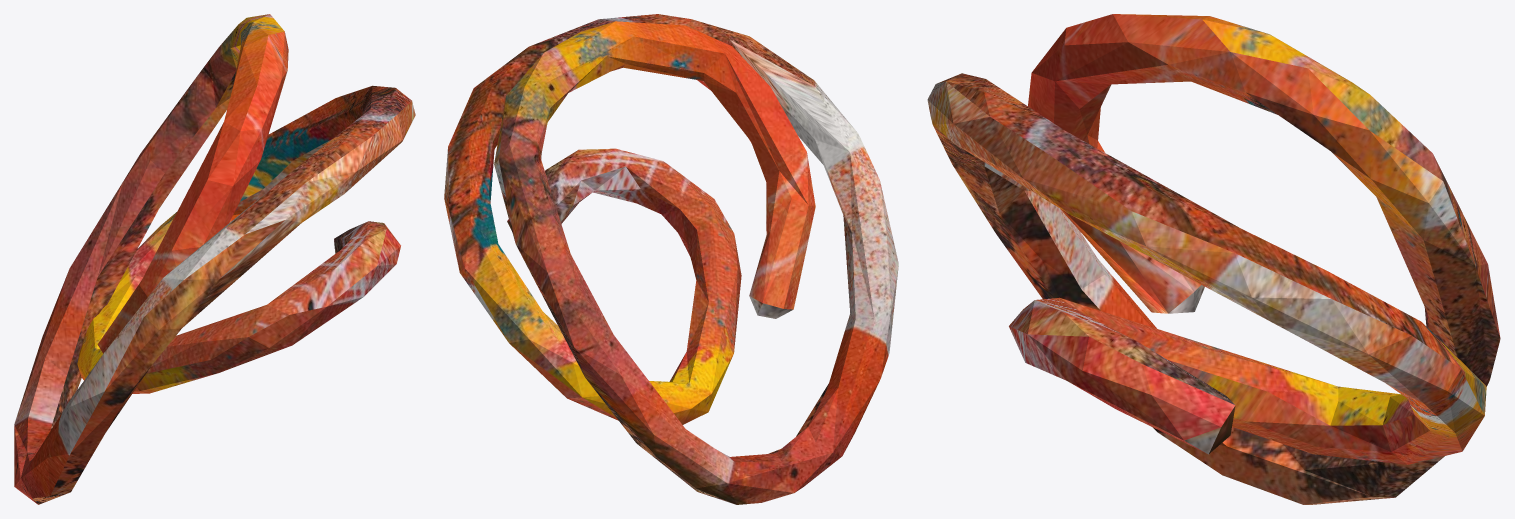
Rendered from spiral02_texture.glb.
3 renders of one model, left to right at view 1: azimuth 30°, elevation 25°; view 2: azimuth 150°, elevation 25°; view 3: azimuth 270°, elevation 25°, orthographic. The views are drawn at different scales.
Parts seen in each view (by area): view 1: gesture.002; view 2: gesture.002; view 3: gesture.002.
Boxes of the visible parts, x1=… form: gesture.002: x1=14, y1=14, x2=415, y2=504; gesture.002: x1=444, y1=14, x2=898, y2=504; gesture.002: x1=927, y1=14, x2=1500, y2=504.
Size of the model in its own units: 0.9071 by 0.9515 by 0.7974.
Materials: 1 (1 with a texture image).
